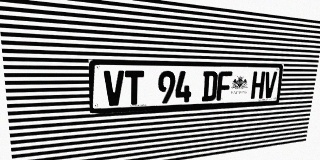4: (175, 71, 192, 103)
9: (157, 71, 176, 104)
D: (201, 71, 218, 101)
F: (216, 71, 232, 101)
H: (250, 71, 265, 99)
T: (125, 70, 144, 105)
V: (104, 70, 124, 106), (263, 71, 277, 98)
